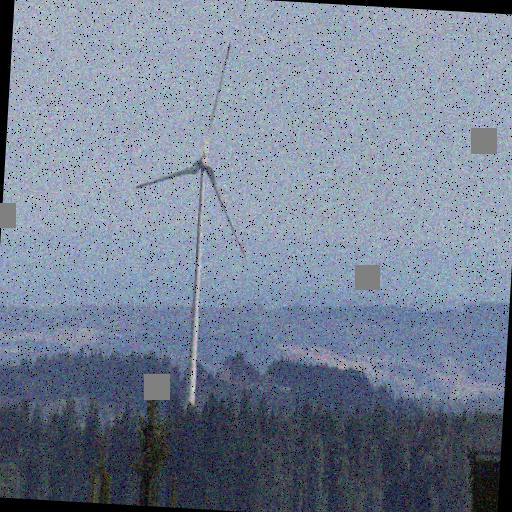wind turbine: (135, 41, 248, 418)
